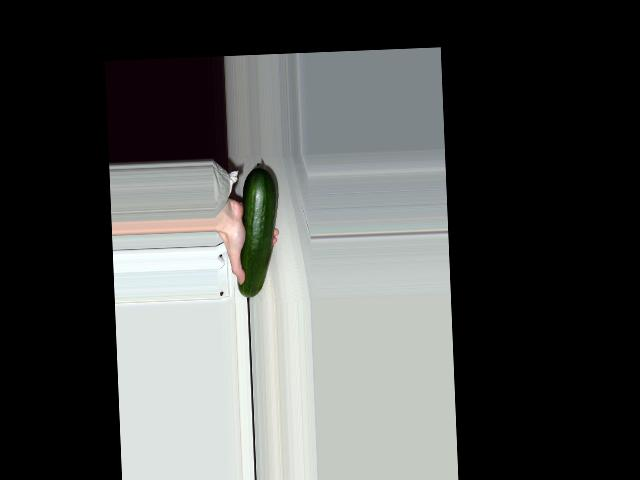cucumber: (233, 162, 282, 298)
